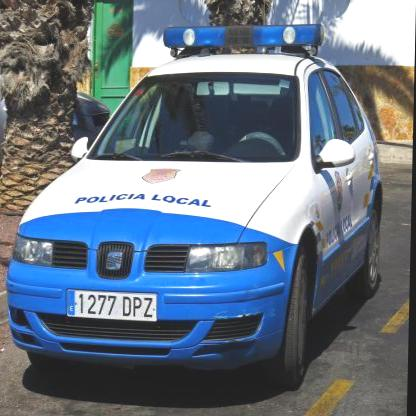License_Plate: (67, 290, 158, 322)
